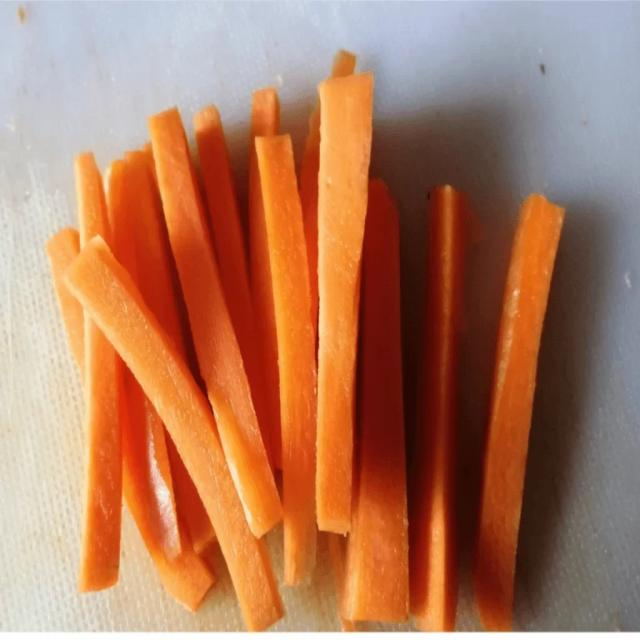carrot: (64, 235, 282, 631), (148, 108, 283, 538), (474, 193, 566, 632), (344, 179, 409, 623), (193, 105, 273, 465), (255, 134, 317, 586), (317, 71, 374, 535), (410, 185, 467, 632), (119, 365, 214, 610), (106, 150, 186, 356), (78, 312, 122, 593), (74, 152, 109, 248)
